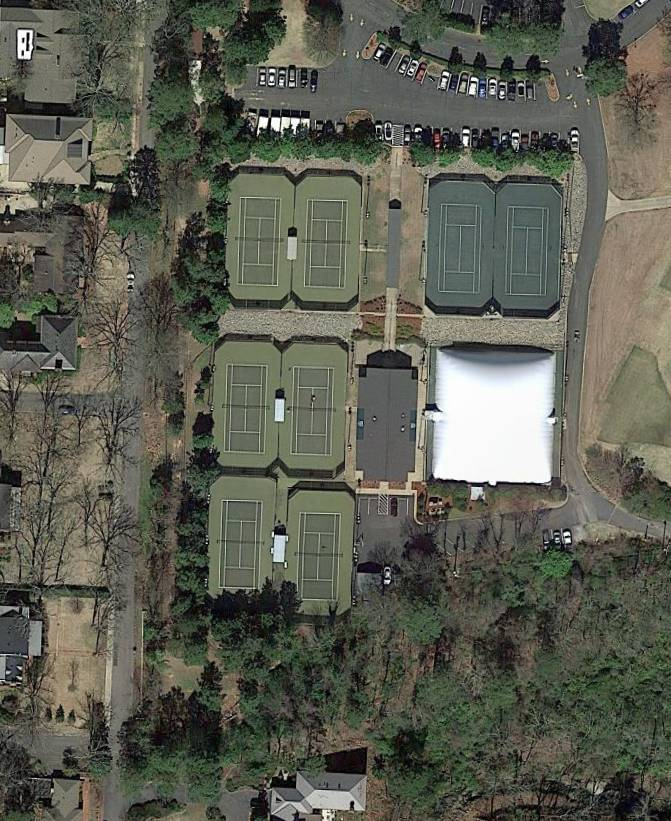small vehicle: (379, 47, 394, 67), (372, 42, 387, 62), (617, 5, 635, 21), (415, 63, 429, 83), (406, 59, 420, 78), (398, 55, 411, 75), (438, 71, 451, 91), (571, 130, 581, 154), (468, 75, 479, 96), (458, 73, 469, 93), (511, 132, 521, 153), (310, 71, 319, 93), (449, 73, 460, 91), (268, 69, 278, 87), (278, 69, 287, 89), (479, 78, 487, 100), (288, 69, 297, 88), (383, 566, 392, 585), (462, 129, 471, 148), (508, 80, 516, 101), (531, 132, 540, 150), (300, 69, 308, 89), (489, 79, 497, 99), (527, 81, 535, 100), (259, 68, 267, 86), (390, 499, 398, 517), (499, 81, 507, 99), (517, 82, 526, 97), (472, 130, 479, 148), (405, 125, 412, 142)
tennis court: (295, 512, 343, 602), (218, 499, 265, 590), (289, 366, 336, 457), (504, 205, 551, 296), (236, 197, 283, 288), (222, 364, 269, 454), (437, 204, 484, 294), (303, 199, 349, 290)
